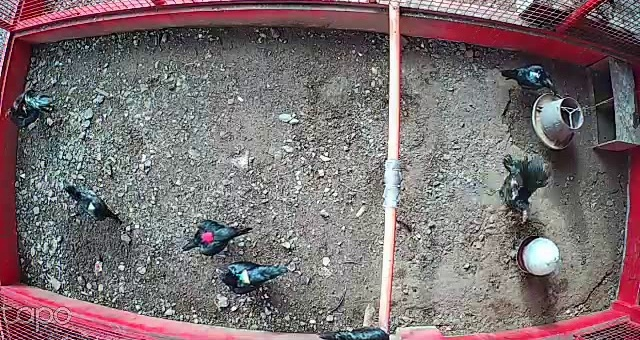Chicken: (498, 148, 552, 234), (61, 180, 130, 230), (217, 253, 291, 298), (181, 213, 251, 257), (496, 60, 560, 101), (313, 323, 389, 340)
Saddle_Color_Red: (200, 230, 213, 243)
Saddle_Color_Yellow: (87, 201, 94, 212)
Saddle_Color_YellowGreen: (237, 269, 250, 283)
